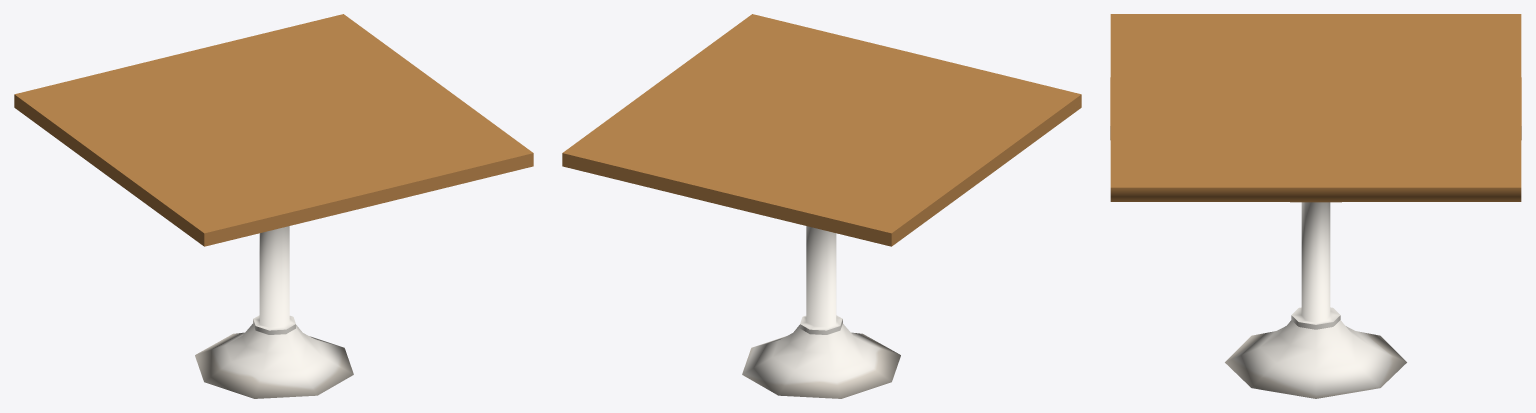
Rendered from table_square.fbx.
3 views of the same model, side by side, from view 1: azimuth 30°, elevation 25°; view 2: azimuth 150°, elevation 25°; view 3: azimuth 270°, elevation 25° (orthographic). The views are drawn at different scales.
Parts seen in each view (by area): view 1: mesh_TableSmall; view 2: mesh_TableSmall; view 3: mesh_TableSmall.
Boxes of the visible parts, x1,y1,x2,y2 form: mesh_TableSmall: [14, 14, 533, 398]; mesh_TableSmall: [562, 14, 1081, 398]; mesh_TableSmall: [1110, 14, 1521, 398].
Size of the model in its own units: 1 by 0.7 by 1.
1 material, 1 textured.
